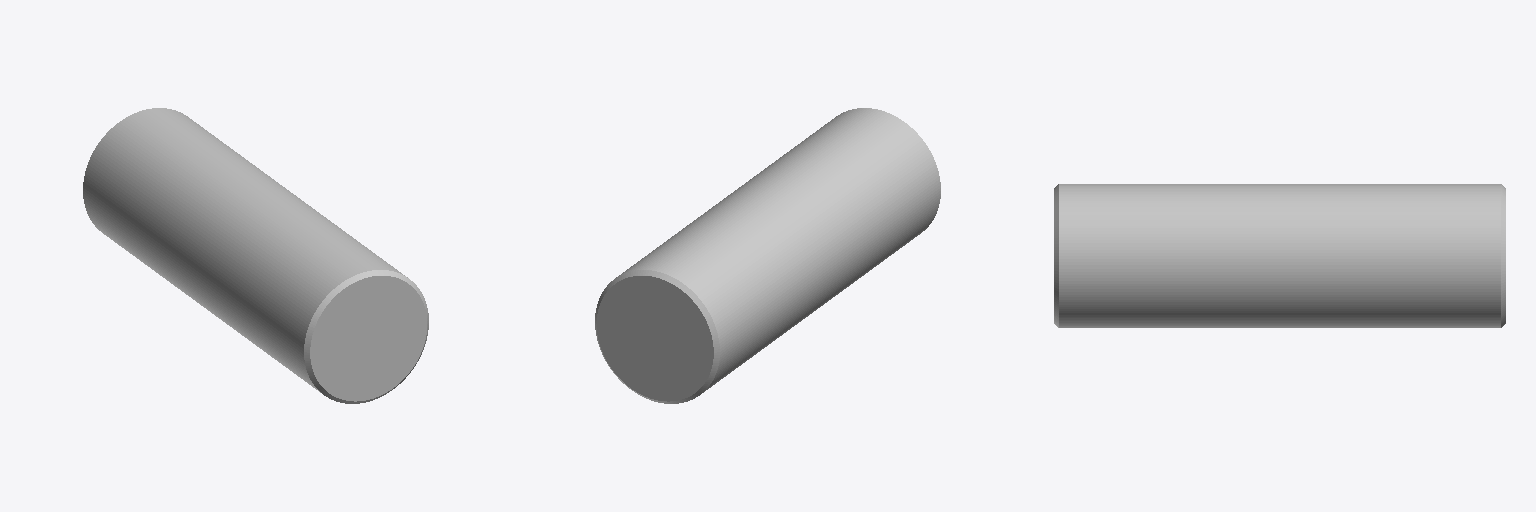
File: factory_round_peg_16mm_tight.obj
3 views of the same model, side by side, from view 1: azimuth 30°, elevation 25°; view 2: azimuth 150°, elevation 25°; view 3: azimuth 270°, elevation 25° (orthographic).
Visible parts, largest first — view 1: mesh2, mesh0, mesh1; view 2: mesh2, mesh4, mesh3; view 3: mesh2, mesh1, mesh3.
Boxes of the visible parts, box(x1,y1,x2,y2) form: mesh2: box(83, 108, 407, 392); mesh0: box(310, 276, 426, 401); mesh1: box(304, 270, 428, 403); mesh2: box(616, 108, 940, 392); mesh4: box(597, 276, 713, 401); mesh3: box(595, 270, 719, 403); mesh2: box(1059, 184, 1500, 327); mesh1: box(1054, 184, 1058, 327); mesh3: box(1501, 184, 1505, 327).
Size of the model in its own units: 0.016 by 0.016 by 0.05.